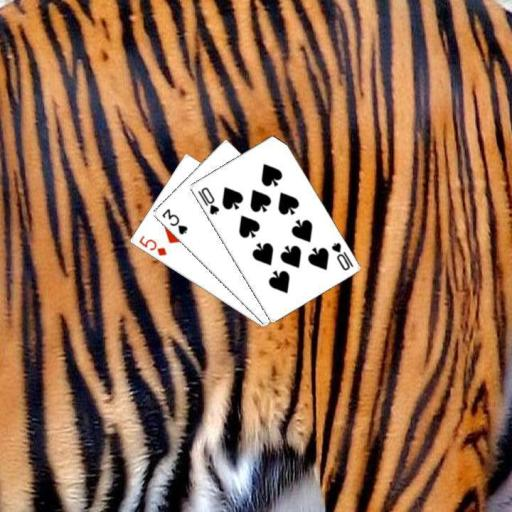card-corner: (159, 206, 189, 236), (194, 184, 221, 216), (135, 232, 168, 258), (328, 239, 354, 272)
